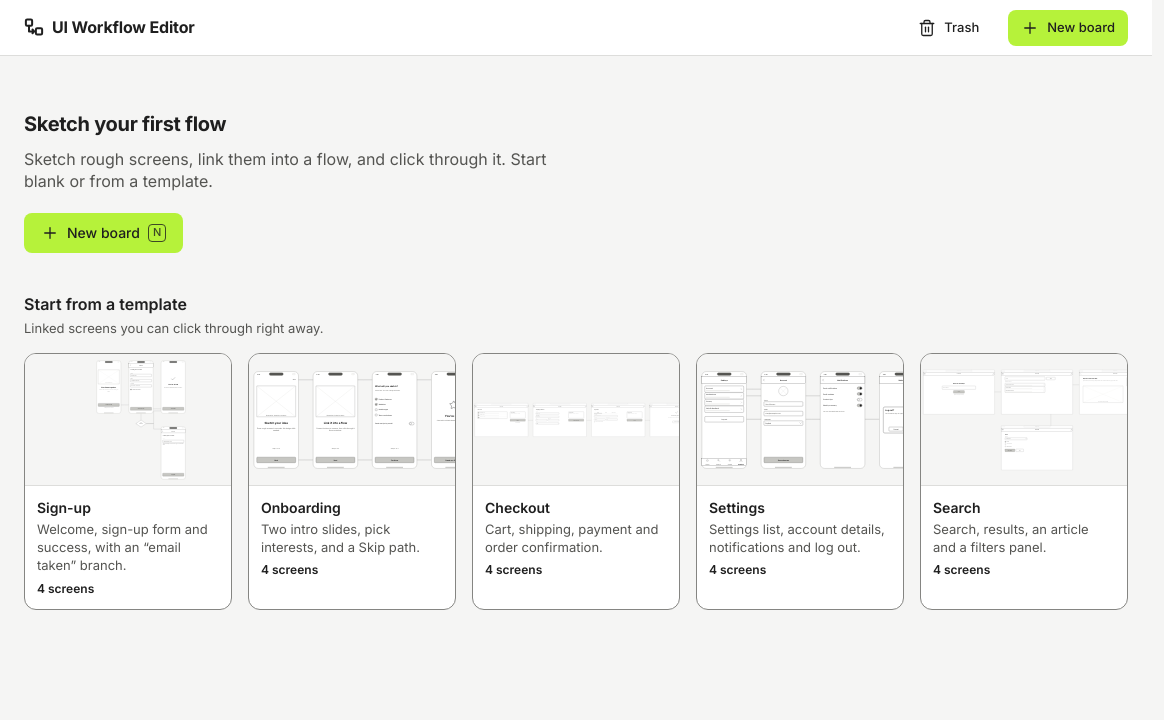
Test case: DashboardPage › shows a calm error when creating fails
Click the button "New board" at {"x": 1068, "y": 28}, box [1008,10,1128,46]
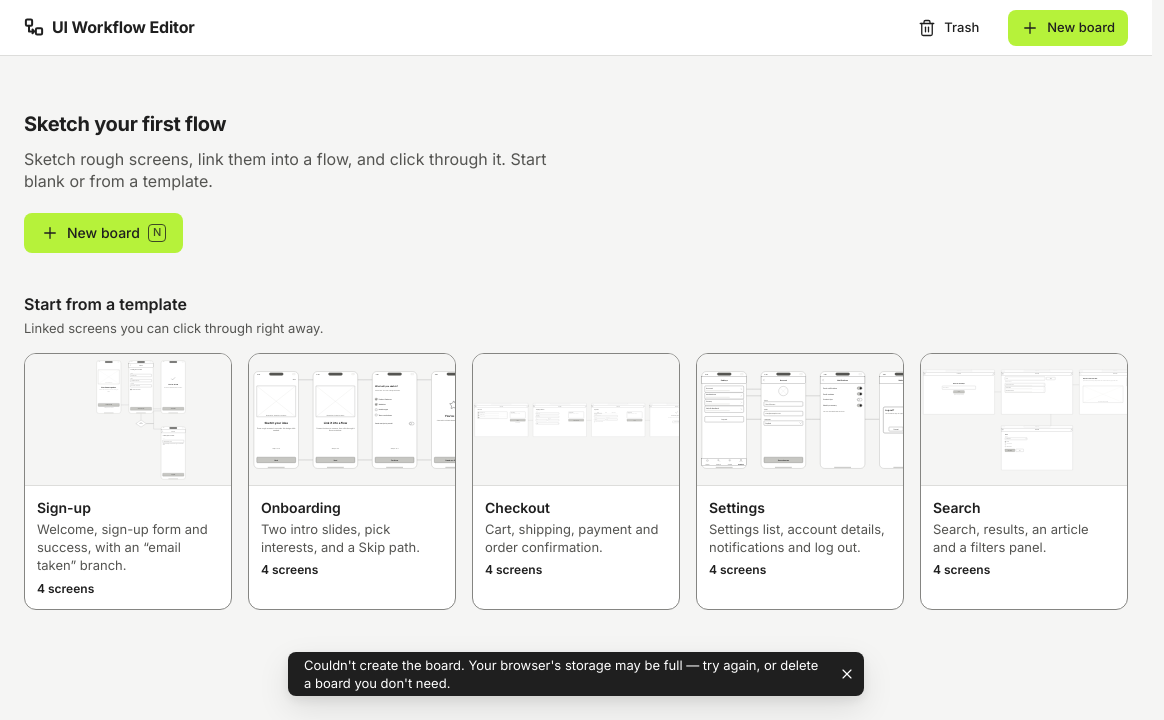
expect the heading "Sketch your first flow" is shown: met, box [24,112,226,136]
expect the text "Couldn't create the board" is shown: met, box [304,657,818,691]
